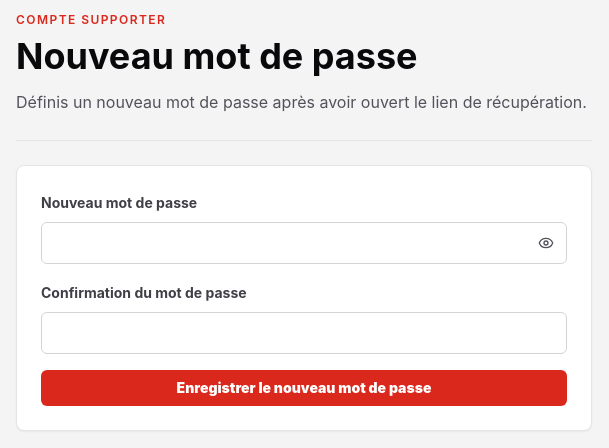
Test: account pages › updates the password during reset recovery
Type "Recovered123!" into the password field labelled "Nouveau mot de passe" at (284, 243), box [42,223,526,263]
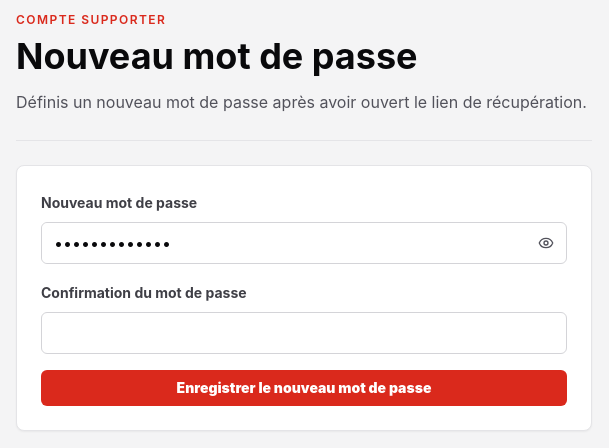
Type "Recovered123!" into the password field labelled "Confirmation du mot de passe" at (304, 333), box [41,312,567,354]
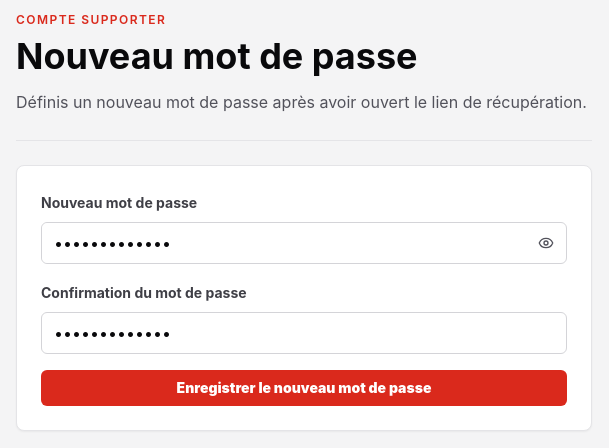
Click the button "Enregistrer le nouveau mot de passe" at (304, 388), box [41,370,567,406]
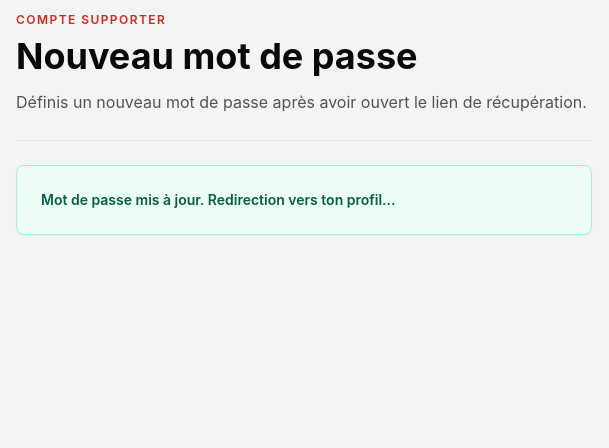
Result: the text "Mot de passe mis à jour. Redirection vers ton profil..." is shown at [16,165,592,235]
